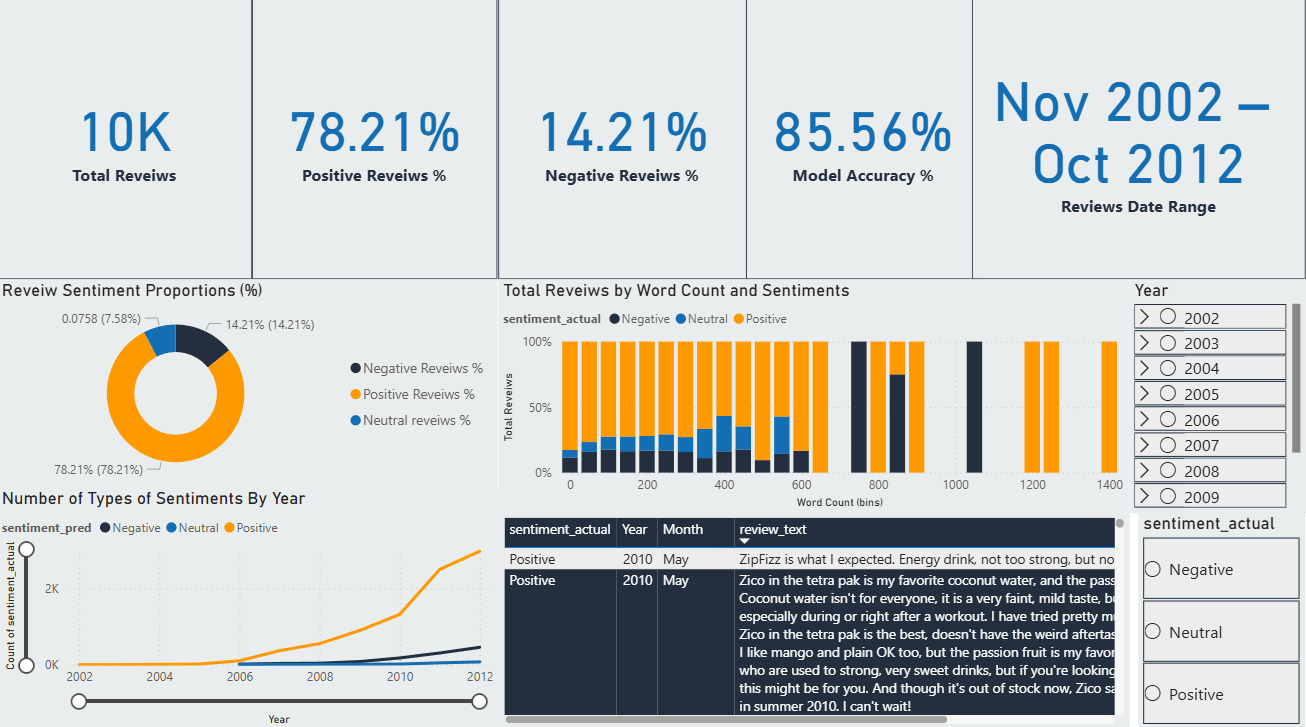

This screenshot's page, from the dashboard's own definition file:
{"tool":"powerbi","page":{"name":"Page 1","canvas":[1280,720],"ordinal":0},"visuals":[{"type":"card","fields":{"Values":["amazon_reviews_sentiment_for_powerbi.Total Reveiws"]},"box":[0,0,249.7,279.9],"z":0},{"type":"card","fields":{"Values":["amazon_reviews_sentiment_for_powerbi.Accuracy %"]},"box":[732.8,0,230.5,279.9],"z":1000},{"type":"card","fields":{"Values":["amazon_reviews_sentiment_for_powerbi.% Positive"]},"box":[249.7,0,240.1,279.9],"z":2000},{"type":"card","fields":{"Values":["amazon_reviews_sentiment_for_powerbi.Negative Reveiws %"]},"box":[489.9,0,242.9,279.9],"z":3000},{"type":"card","fields":{"Values":["amazon_reviews_sentiment_for_powerbi.Reviews Date Range"]},"box":[953.7,0,326.6,279.9],"z":4000},{"type":"donutChart","title":"Reveiw Sentiment Proportions (%)","fields":{"Y":["amazon_reviews_sentiment_for_powerbi.Negative Reveiws %","amazon_reviews_sentiment_for_powerbi.Positive Reveiws %","amazon_reviews_sentiment_for_powerbi.Neutral reveiws %"]},"box":[0,279.9,489.9,204.5],"z":5000},{"type":"hundredPercentStackedColumnChart","title":"Total Reveiws by Word Count and Sentiments","fields":{"Category":["amazon_reviews_sentiment_for_powerbi.Word Count (bins)"],"Y":["amazon_reviews_sentiment_for_powerbi.Total Reveiws"],"Series":["amazon_reviews_sentiment_for_powerbi.sentiment_actual"]},"box":[489.9,279.9,617.5,229.2],"z":6000},{"type":"lineChart","title":"Number of Types of Sentiments By Year","fields":{"Category":["amazon_reviews_sentiment_for_powerbi.review_date.Variation.Date Hierarchy.Year","amazon_reviews_sentiment_for_powerbi.review_date.Variation.Date Hierarchy.Month"],"Y":["CountNonNull(amazon_reviews_sentiment_for_powerbi.sentiment_actual)"],"Series":["amazon_reviews_sentiment_for_powerbi.sentiment_pred"]},"box":[0,484.4,489.9,236],"z":7000},{"type":"listSlicer","fields":{"Values":["amazon_reviews_sentiment_for_powerbi.review_date.Variation.Date Hierarchy.Year","amazon_reviews_sentiment_for_powerbi.review_date.Variation.Date Hierarchy.Month"]},"box":[1107.4,279.9,172.9,229.2],"z":8000},{"type":"listSlicer","fields":{"Values":["amazon_reviews_sentiment_for_powerbi.sentiment_actual"]},"box":[1117,509.1,163.3,211.3],"z":9000},{"type":"tableEx","fields":{"Values":["amazon_reviews_sentiment_for_powerbi.sentiment_actual","amazon_reviews_sentiment_for_powerbi.review_date.Variation.Date Hierarchy.Year","amazon_reviews_sentiment_for_powerbi.review_date.Variation.Date Hierarchy.Month","amazon_reviews_sentiment_for_powerbi.review_text"]},"box":[489.9,509.1,617.5,211.3],"z":10000}]}

Visuals, with their boxes in screenshot pixels (x1, y1, x2, y2), scaled from the page's 1280x720 canvas onto the 1306x727 screenshot:
card - amazon_reviews_sentiment_for_powerbi.Total Reveiws: x1=0, y1=0, x2=255, y2=283
card - amazon_reviews_sentiment_for_powerbi.Accuracy %: x1=748, y1=0, x2=983, y2=283
card - amazon_reviews_sentiment_for_powerbi.% Positive: x1=255, y1=0, x2=500, y2=283
card - amazon_reviews_sentiment_for_powerbi.Negative Reveiws %: x1=500, y1=0, x2=748, y2=283
card - amazon_reviews_sentiment_for_powerbi.Reviews Date Range: x1=973, y1=0, x2=1305, y2=283
"Reveiw Sentiment Proportions (%)" donutChart: x1=0, y1=283, x2=500, y2=489
"Total Reveiws by Word Count and Sentiments" hundredPercentStackedColumnChart: x1=500, y1=283, x2=1130, y2=514
"Number of Types of Sentiments By Year" lineChart: x1=0, y1=489, x2=500, y2=726
listSlicer - amazon_reviews_sentiment_for_powerbi.review_date.Variation.Date Hierarchy.Year x amazon_reviews_sentiment_for_powerbi.review_date.Variation.Date Hierarchy.Month: x1=1130, y1=283, x2=1305, y2=514
listSlicer - amazon_reviews_sentiment_for_powerbi.sentiment_actual: x1=1140, y1=514, x2=1305, y2=726
tableEx - amazon_reviews_sentiment_for_powerbi.sentiment_actual x amazon_reviews_sentiment_for_powerbi.review_date.Variation.Date Hierarchy.Year: x1=500, y1=514, x2=1130, y2=726
